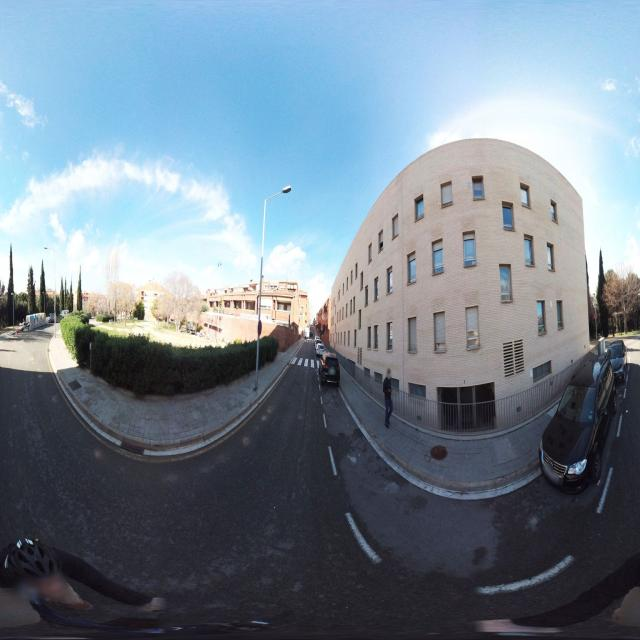forb_stopping: (595, 314, 597, 318)
forb_waiting: (257, 320, 262, 337)
